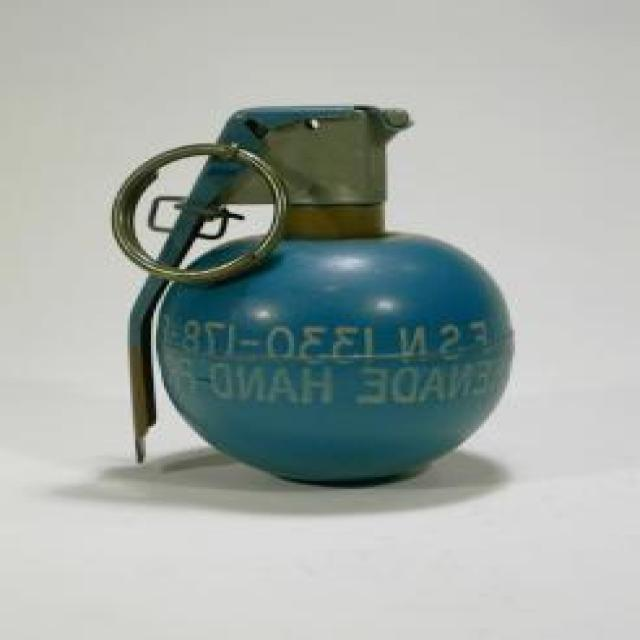grenade: (113, 107, 521, 486)
